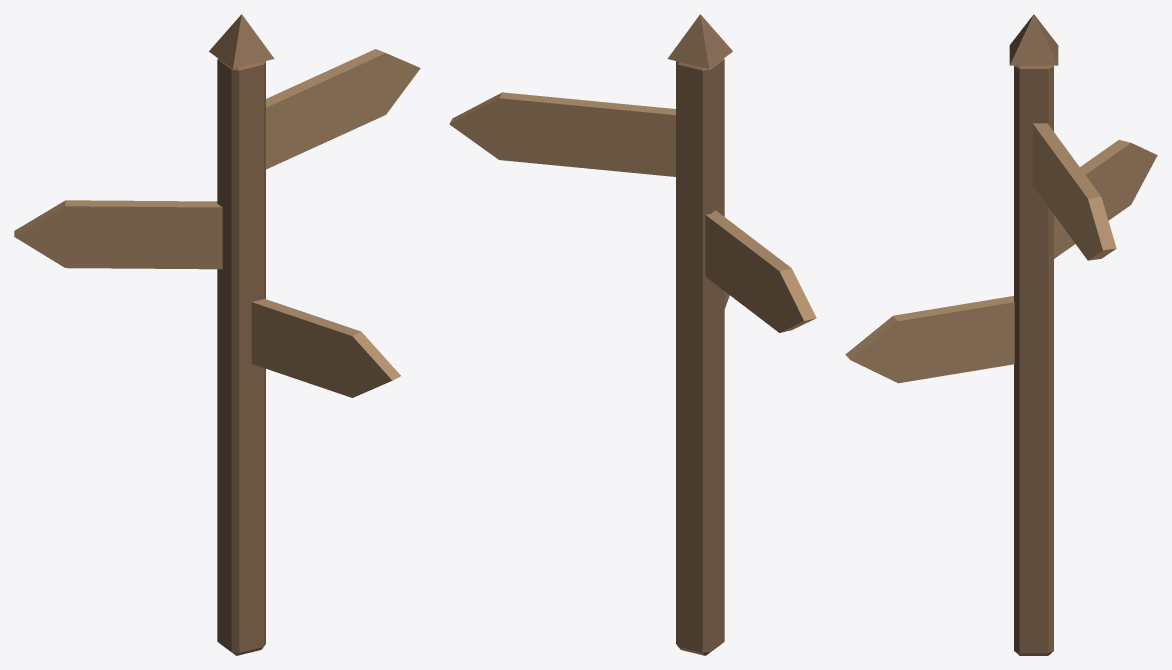
The model's file is SignPost.glb.
3 views of the same model, side by side, from view 1: azimuth 30°, elevation 25°; view 2: azimuth 150°, elevation 25°; view 3: azimuth 270°, elevation 25° (orthographic).
Parts seen in each view (by area): view 1: SignPost; view 2: SignPost; view 3: SignPost.
Part boxes in pixels (x1=…): SignPost: x1=14, y1=14, x2=420, y2=655; SignPost: x1=449, y1=14, x2=816, y2=655; SignPost: x1=845, y1=14, x2=1157, y2=655.
Bounding box in the file's own units: 1.57 × 2.46 × 1.1.
